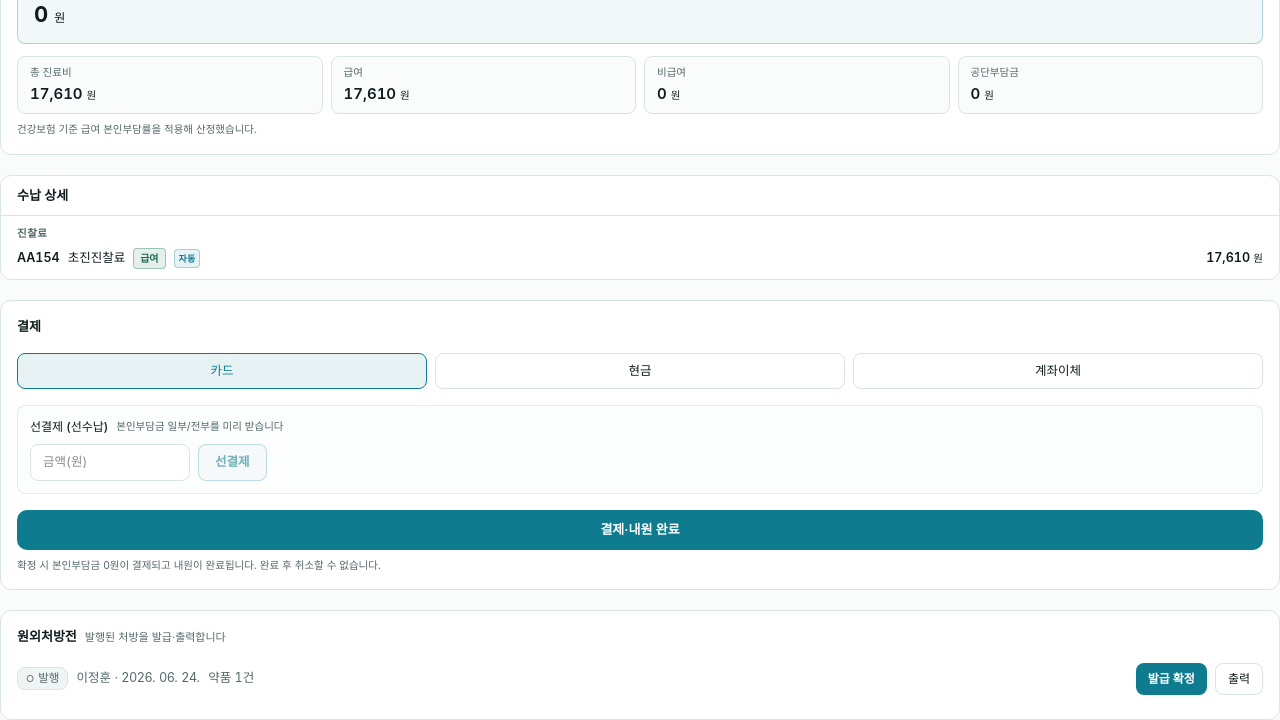
Test: BillingDetail › 출력 → 처방전 미리보기 + beforeprint → exportPrescriptionDocument 감사
(page scrolled)
Step 1. Click the button "출력" → (1239, 679), box [1215,663,1263,695]
(page scrolled)
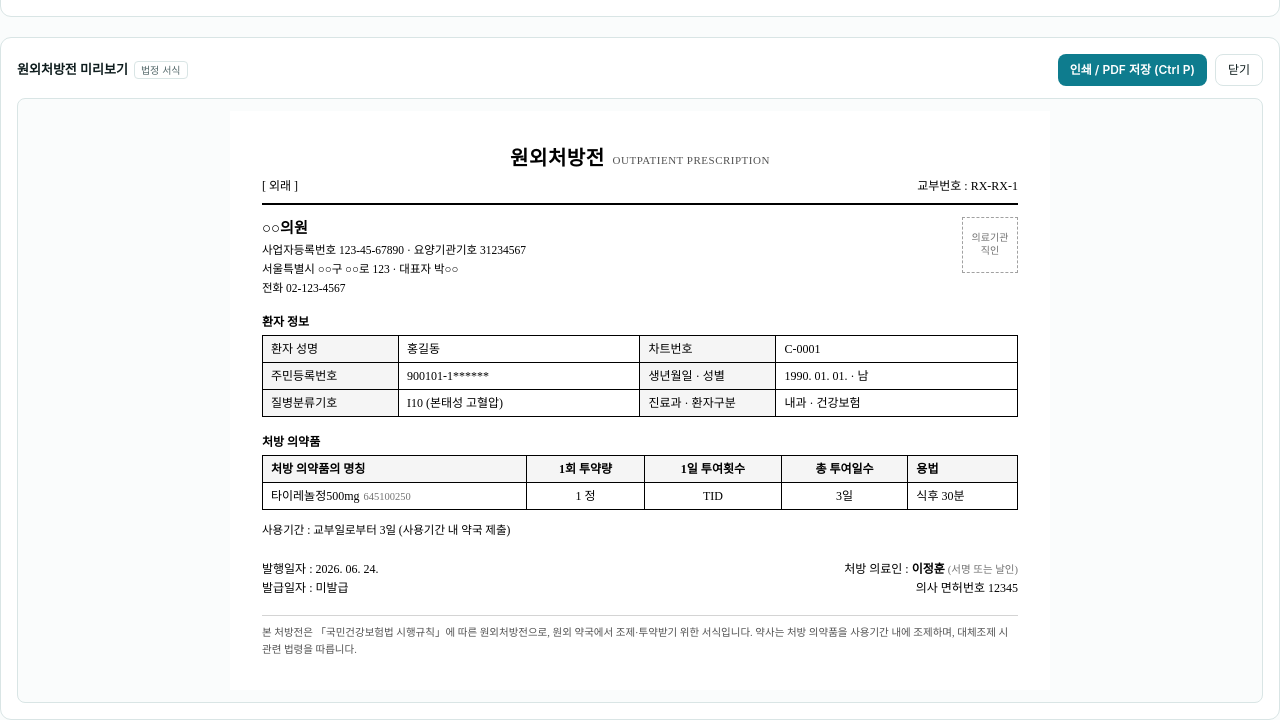
Result: the text "타이레놀정500mg" is shown at [271,489,360,503]
